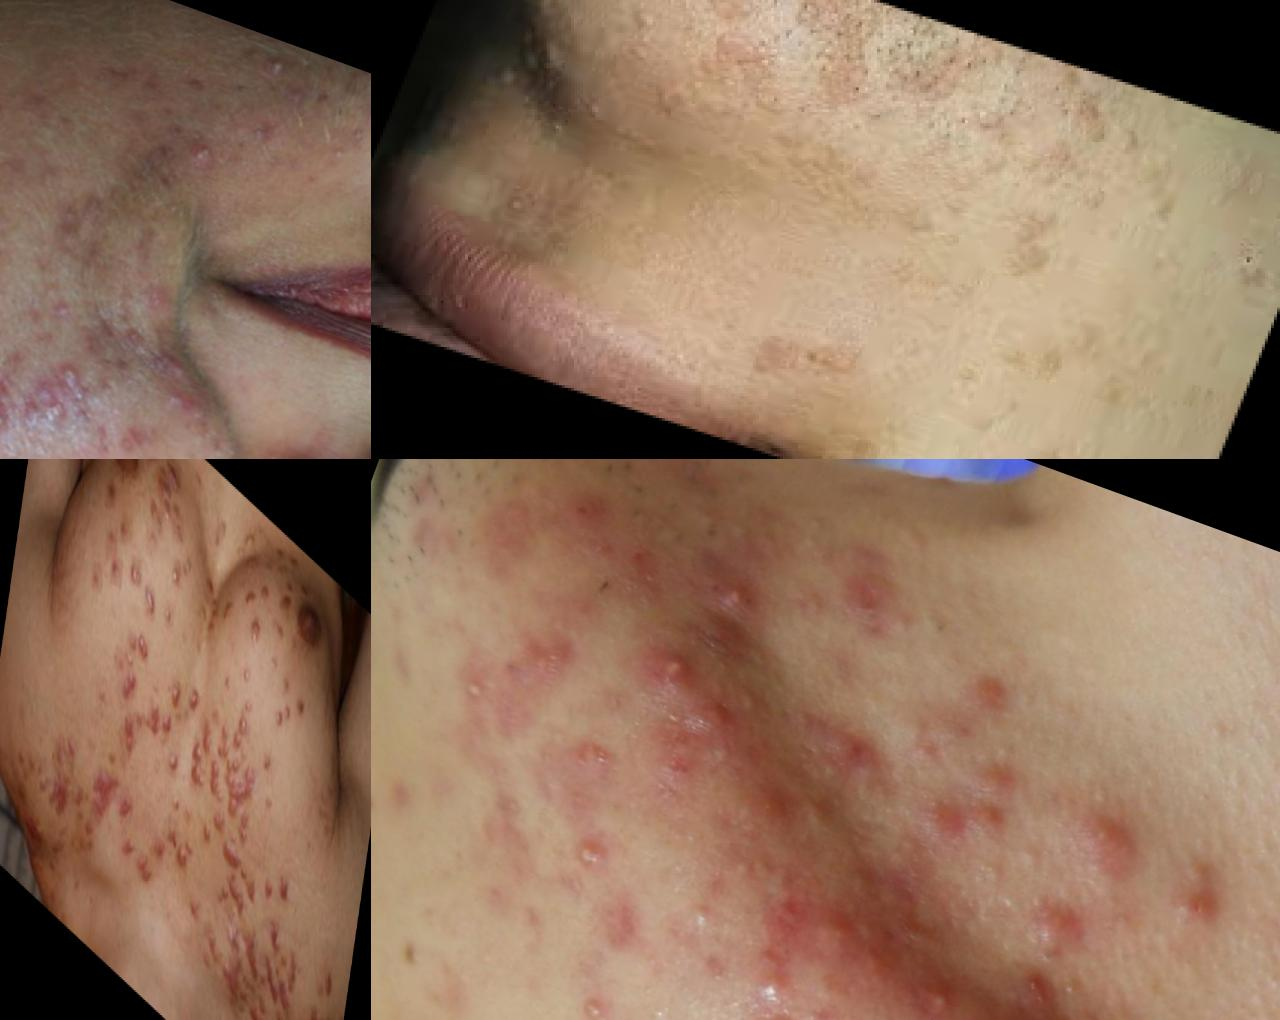flat_wart: (925, 303, 1083, 456), (728, 292, 910, 426), (480, 1, 714, 99), (739, 116, 902, 236), (861, 170, 995, 310), (972, 201, 1072, 294), (695, 26, 780, 97)
keloid: (43, 704, 126, 879), (205, 724, 265, 853), (199, 919, 252, 1012), (120, 675, 164, 780), (163, 777, 219, 860), (261, 914, 302, 1017), (157, 668, 191, 777), (258, 850, 297, 930), (195, 571, 231, 652), (118, 821, 156, 895), (237, 579, 270, 662), (121, 617, 155, 695), (188, 710, 215, 809), (127, 556, 160, 622), (167, 819, 198, 887), (153, 460, 188, 518), (217, 872, 249, 933), (246, 984, 297, 1020), (217, 832, 245, 882), (116, 775, 138, 833), (316, 960, 337, 1014), (273, 694, 295, 739), (167, 553, 186, 600), (161, 598, 177, 643)
papular: (845, 941, 923, 1020), (799, 896, 869, 969), (232, 109, 289, 161), (98, 414, 157, 460), (114, 315, 164, 361), (355, 91, 372, 141)
purulent: (631, 630, 707, 714), (705, 560, 780, 644), (147, 375, 232, 449), (738, 946, 816, 1019), (555, 820, 628, 898), (442, 656, 504, 743), (912, 960, 995, 1020), (671, 882, 741, 949), (563, 967, 633, 1020), (179, 132, 229, 177), (264, 51, 314, 90), (158, 347, 193, 387), (1, 396, 19, 447)
sebo-crystan-conglo: (1046, 775, 1170, 903), (932, 958, 1105, 1020), (18, 352, 99, 443)
whitehead: (489, 176, 552, 233)
